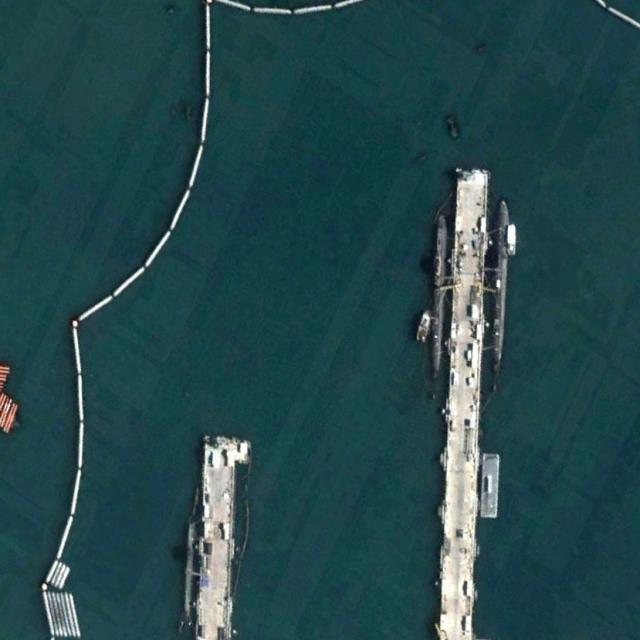Submarine: (489, 196, 510, 375), (431, 214, 448, 381)
